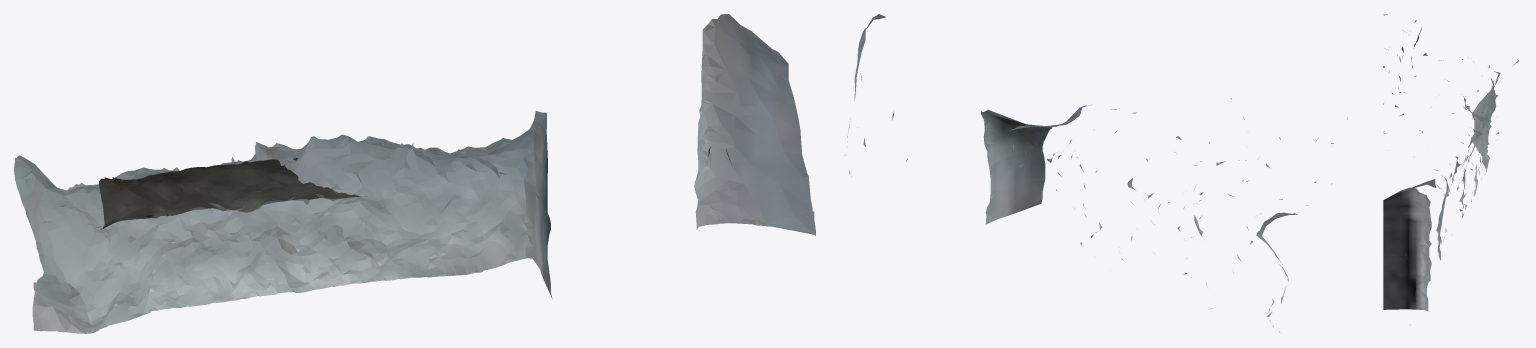
3 renders of one model, left to right at view 1: azimuth 30°, elevation 25°; view 2: azimuth 150°, elevation 25°; view 3: azimuth 270°, elevation 25°, orthographic. The views are drawn at different scales.
Bounding box in the file's own units: 0.7694 × 0.2366 × 0.2308.
Materials: 1 (1 with a texture image).
